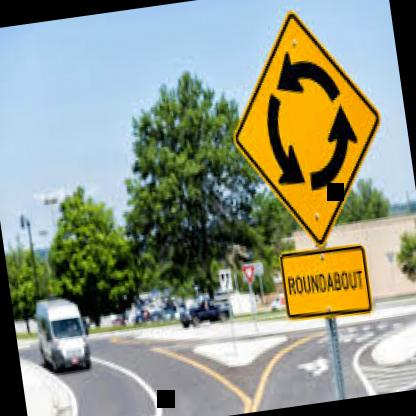car: (27, 289, 102, 386), (168, 282, 236, 333)
